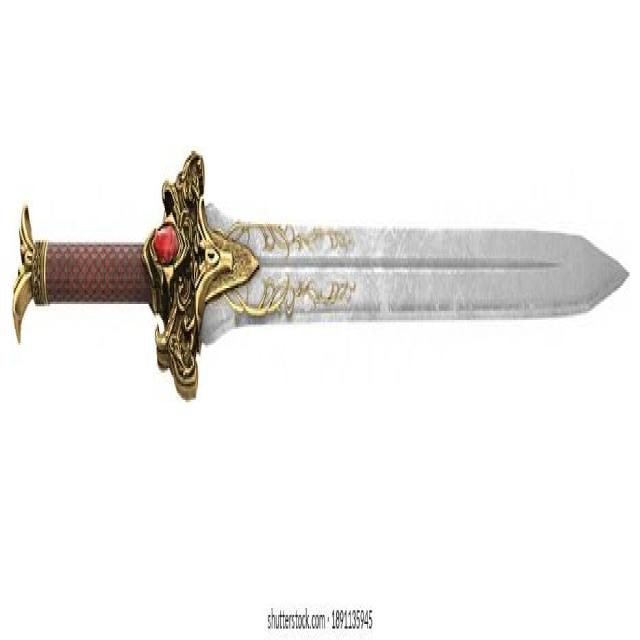weapon: (11, 144, 635, 402)
